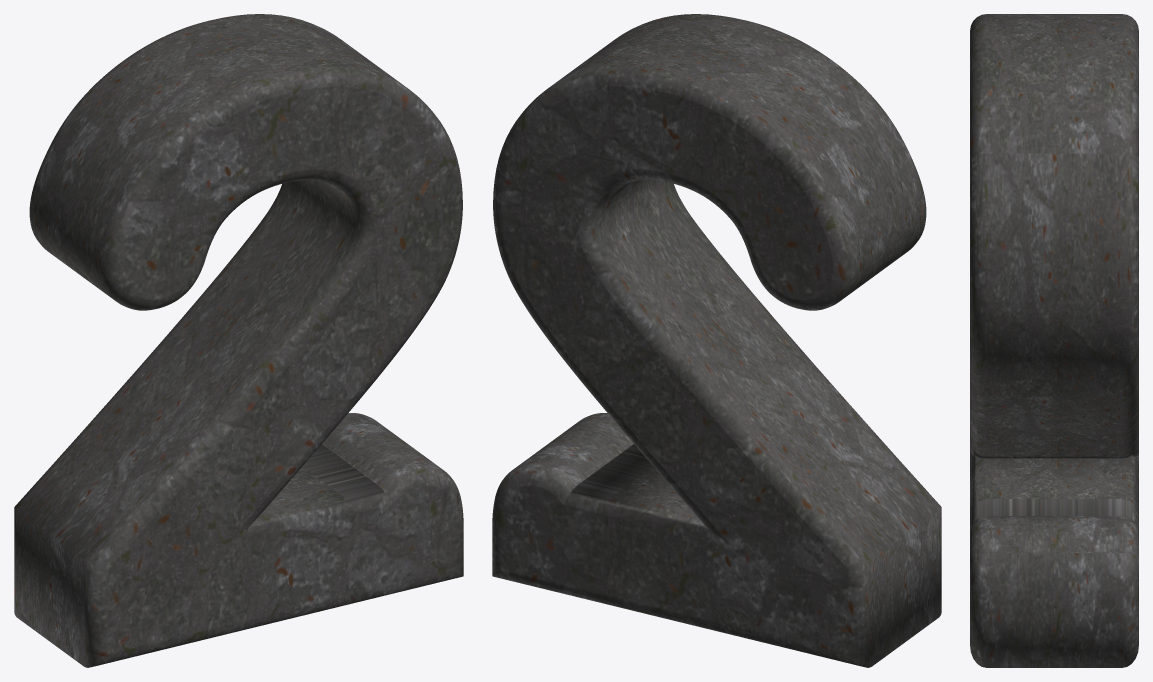
3 renders of one model, left to right at view 1: azimuth 30°, elevation 25°; view 2: azimuth 150°, elevation 25°; view 3: azimuth 270°, elevation 25°, orthographic.
Visible parts, largest first — view 1: Text; view 2: Text; view 3: Text.
Part boxes in pixels (x1,y1,x2,y2): Text: (14, 14, 463, 667); Text: (492, 14, 941, 667); Text: (970, 14, 1138, 667).
Bounding box in the file's own units: 25.61 × 35.54 × 10.
1 material, 1 textured.
